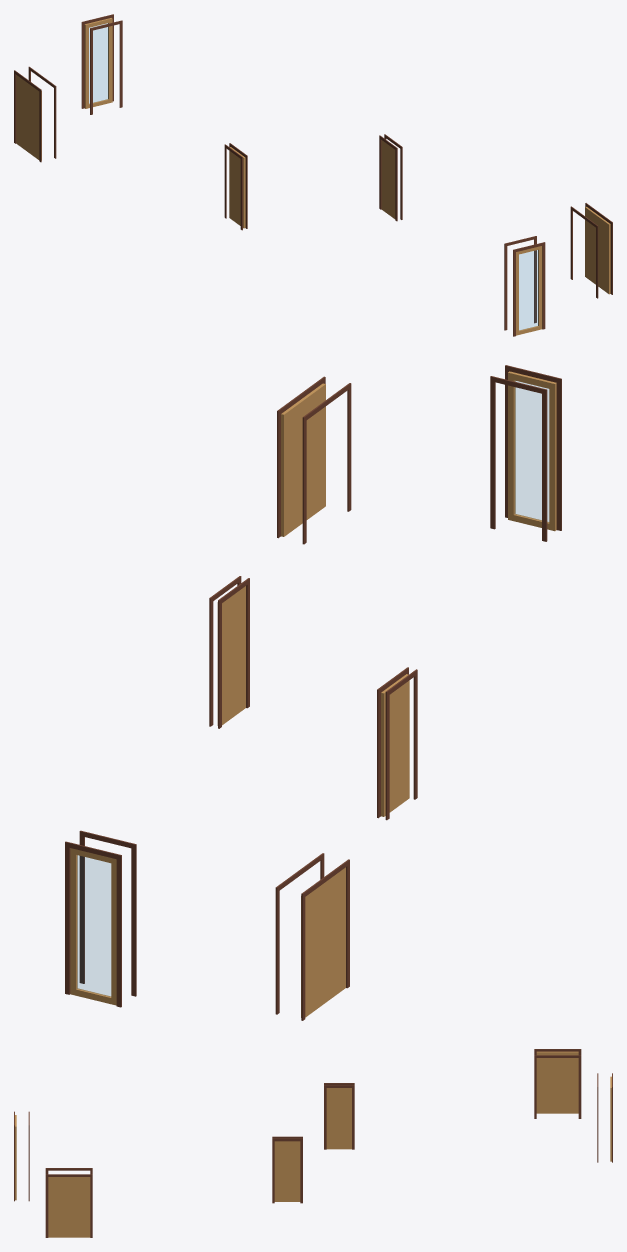
File: Duplex_Level_1_IfcDoor.dae
3 renders of one model, top to bottom at view 1: azimuth 30°, elevation 25°; view 2: azimuth 150°, elevation 25°; view 3: azimuth 270°, elevation 25°, orthographic. The views are drawn at different scales.
Visible parts, largest first — view 1: 1s1jVhK8z0pgKYcr9jt7AB, 1s1jVhK8z0pgKYcr9jt781, 1hOSvn6df7F8_7GcBWlRGQ, 1hOSvn6df7F8_7GcBWlRH8, 1hOSvn6df7F8_7GcBWlS8Z, 1hOSvn6df7F8_7GcBWlS9F; view 2: 1s1jVhK8z0pgKYcr9jt781, 1s1jVhK8z0pgKYcr9jt7AB, 1hOSvn6df7F8_7GcBWlRGQ, 1hOSvn6df7F8_7GcBWlRH8, 1hOSvn6df7F8_7GcBWlS8Z, 1hOSvn6df7F8_7GcBWlS9F; view 3: 1hOSvn6df7F8_7GcBWlRGQ, 1hOSvn6df7F8_7GcBWlRH8, 1hOSvn6df7F8_7GcBWlS9F, 1hOSvn6df7F8_7GcBWlS8Z, 1s1jVhK8z0pgKYcr9jt7AB, 1s1jVhK8z0pgKYcr9jt781.
Part boxes in pixels (x1,y1,x2,y2): 1s1jVhK8z0pgKYcr9jt7AB: [504, 236, 545, 336]; 1s1jVhK8z0pgKYcr9jt781: [81, 14, 122, 114]; 1hOSvn6df7F8_7GcBWlRGQ: [570, 203, 612, 298]; 1hOSvn6df7F8_7GcBWlRH8: [14, 66, 56, 162]; 1hOSvn6df7F8_7GcBWlS8Z: [379, 134, 402, 221]; 1hOSvn6df7F8_7GcBWlS9F: [224, 143, 247, 230]; 1s1jVhK8z0pgKYcr9jt781: [65, 830, 136, 1007]; 1s1jVhK8z0pgKYcr9jt7AB: [490, 365, 561, 541]; 1hOSvn6df7F8_7GcBWlRGQ: [277, 376, 351, 544]; 1hOSvn6df7F8_7GcBWlRH8: [275, 853, 349, 1020]; 1hOSvn6df7F8_7GcBWlS8Z: [209, 576, 249, 728]; 1hOSvn6df7F8_7GcBWlS9F: [377, 667, 417, 820]; 1hOSvn6df7F8_7GcBWlRGQ: [45, 1168, 92, 1237]; 1hOSvn6df7F8_7GcBWlRH8: [534, 1049, 581, 1118]; 1hOSvn6df7F8_7GcBWlS9F: [324, 1083, 354, 1149]; 1hOSvn6df7F8_7GcBWlS8Z: [272, 1136, 302, 1203]; 1s1jVhK8z0pgKYcr9jt7AB: [14, 1111, 29, 1201]; 1s1jVhK8z0pgKYcr9jt781: [597, 1073, 612, 1162].
Size of the model in its own units: 8.85 by 17.85 by 2.5.
